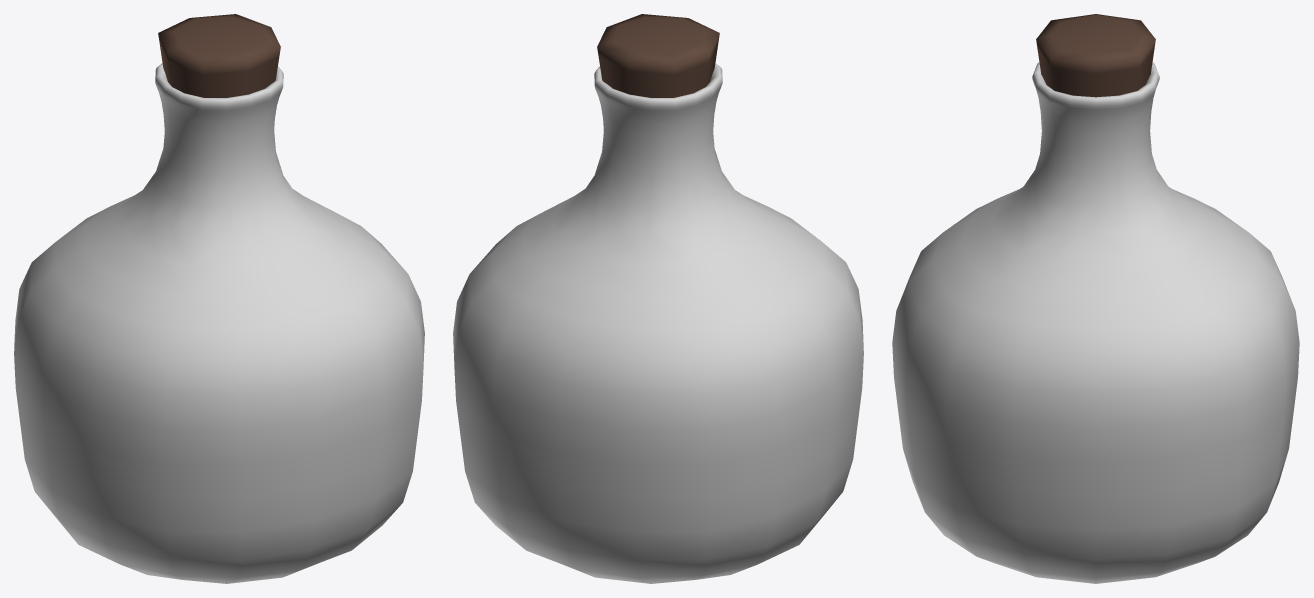
The model's file is Potion2_Filled.glb.
3 renders of one model, left to right at view 1: azimuth 30°, elevation 25°; view 2: azimuth 150°, elevation 25°; view 3: azimuth 270°, elevation 25°, orthographic.
Visible parts, largest first — view 1: Potion2_Filled_Cube.068; view 2: Potion2_Filled_Cube.068; view 3: Potion2_Filled_Cube.068.
Boxes of the visible parts, x1,y1,x2,y2 form: Potion2_Filled_Cube.068: [14, 14, 424, 583]; Potion2_Filled_Cube.068: [453, 14, 863, 583]; Potion2_Filled_Cube.068: [892, 14, 1299, 583].
Size of the model in its own units: 0.8768 by 1.22 by 0.8768.
